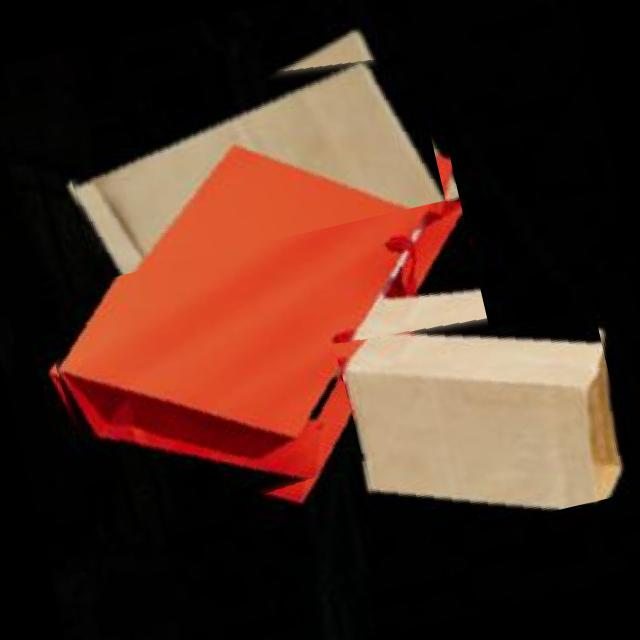PaperCardboard: (58, 117, 461, 478), (74, 61, 445, 274), (345, 334, 624, 509)
